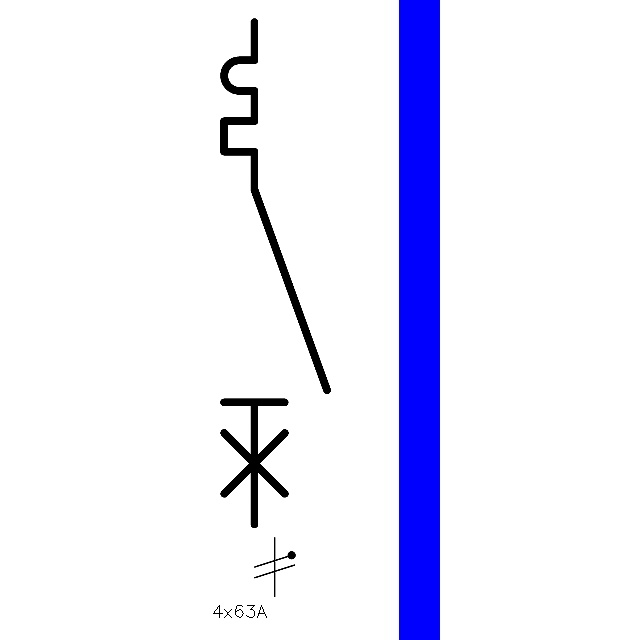interruptor_termomagnetico: (211, 9, 340, 537)
